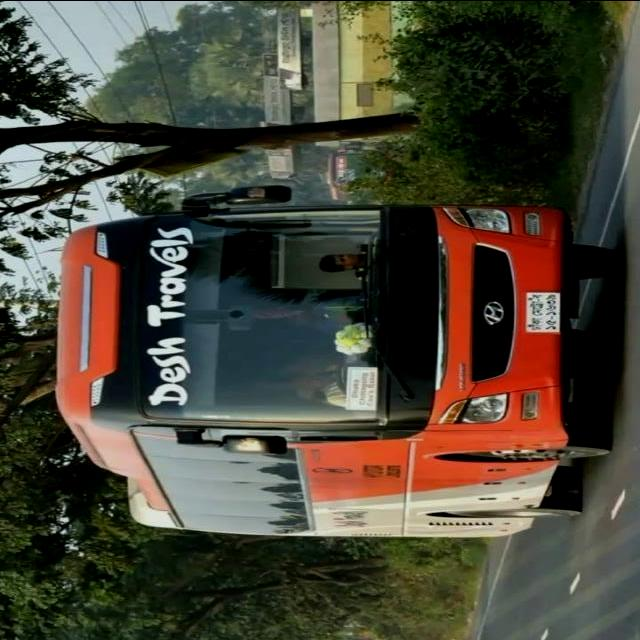bus: (55, 185, 626, 538)
